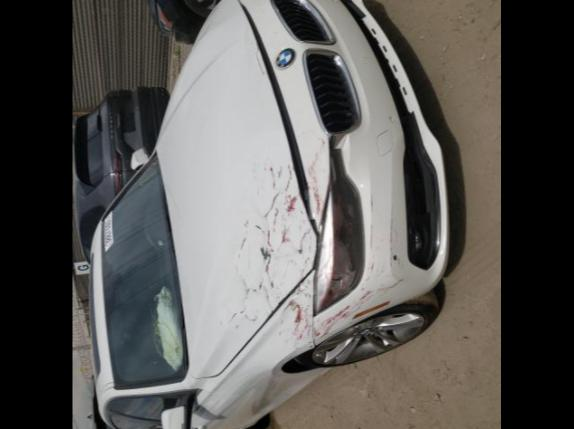Broken part: (212, 0, 322, 378)
Corrosion: (352, 298, 390, 318), (388, 206, 396, 251), (368, 192, 374, 250)
Flaking: (304, 138, 330, 214), (236, 262, 272, 310), (314, 302, 358, 338), (254, 223, 274, 288), (282, 298, 312, 338), (358, 278, 404, 304), (274, 254, 311, 286), (284, 162, 298, 212), (228, 304, 258, 322), (264, 162, 284, 188), (264, 190, 280, 216), (296, 227, 310, 254), (276, 224, 290, 250), (296, 278, 312, 296), (238, 236, 250, 256), (272, 206, 278, 230), (300, 208, 308, 223), (244, 218, 250, 228), (392, 254, 400, 260), (370, 262, 374, 270), (366, 274, 370, 280), (360, 286, 364, 290)
Missing part: (360, 12, 416, 106)
Scratch: (254, 46, 266, 74)
